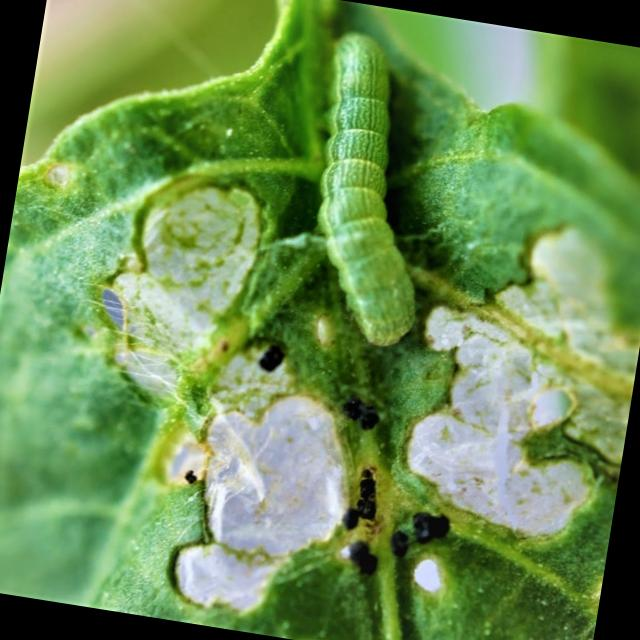Armyworm: (284, 1, 470, 383)
Armyworm_damage: (400, 207, 640, 532), (163, 345, 372, 606), (77, 141, 288, 352)
